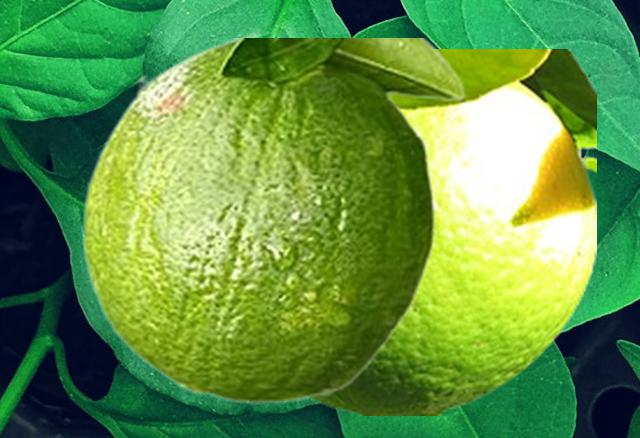dalandan: (81, 38, 465, 403), (310, 49, 595, 414)
